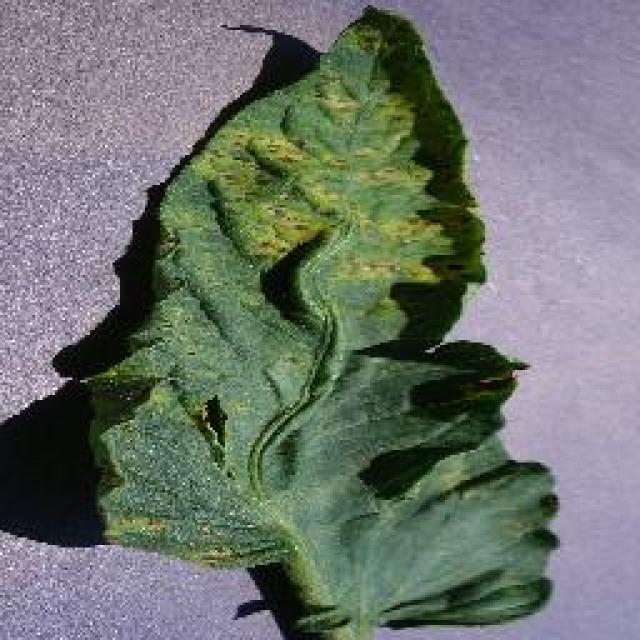Tomato___Septoria_leaf_spot: (82, 8, 558, 638)
